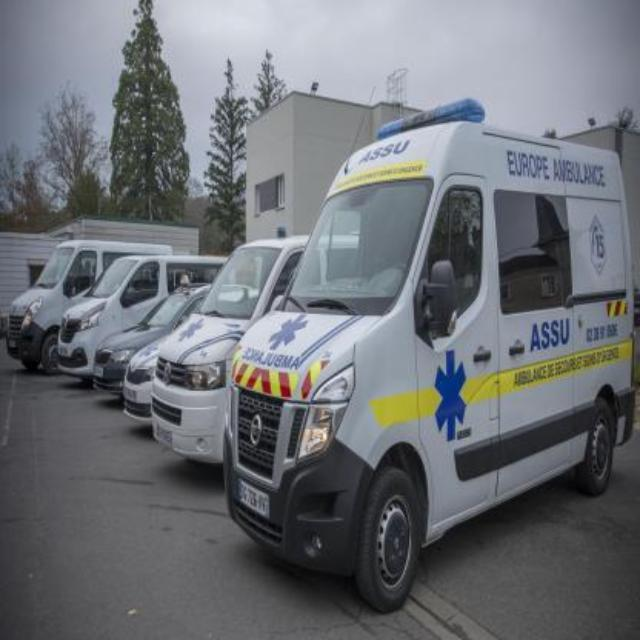emergency-vehicle: (220, 96, 640, 612)
